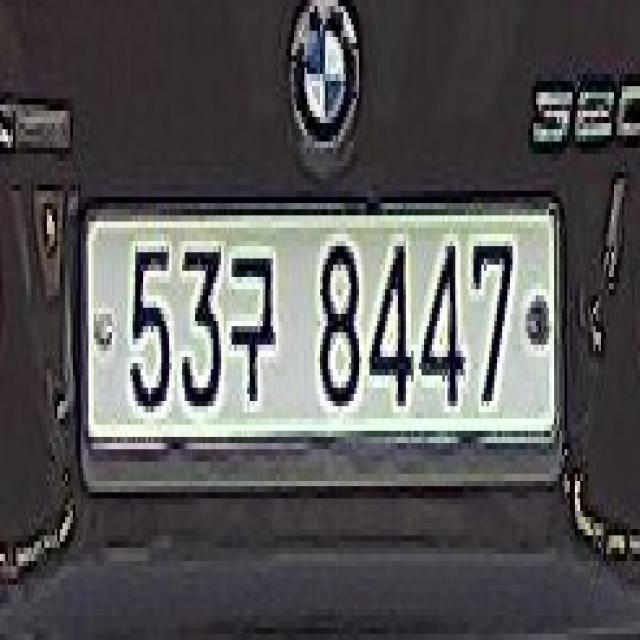3: (180, 242, 227, 414)
4: (364, 237, 418, 417), (420, 240, 468, 409)
5: (128, 241, 174, 411)
7: (472, 237, 515, 411)
8: (314, 233, 364, 414)
gu: (229, 245, 276, 408)
license_plate: (74, 185, 569, 464)
